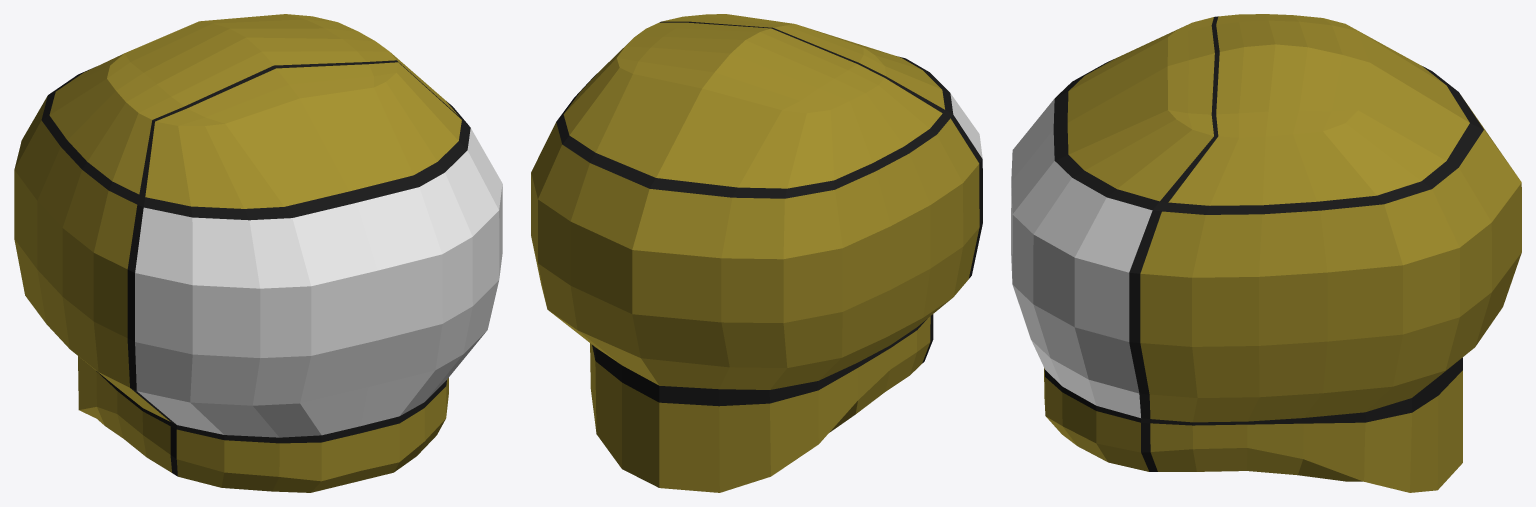
Rendered from player helmet.fbx.
The picture shows the model from 3 angles, left to right: view 1: azimuth 30°, elevation 25°; view 2: azimuth 150°, elevation 25°; view 3: azimuth 270°, elevation 25°; orthographic projection. The views are drawn at different scales.
Visible parts, largest first — view 1: casco; view 2: casco; view 3: casco.
Boxes of the visible parts, <box> form: casco: <box>14,14,502,492</box>; casco: <box>531,14,982,492</box>; casco: <box>1011,14,1521,492</box>.
Size of the model in its own units: 301 by 310 by 342.
